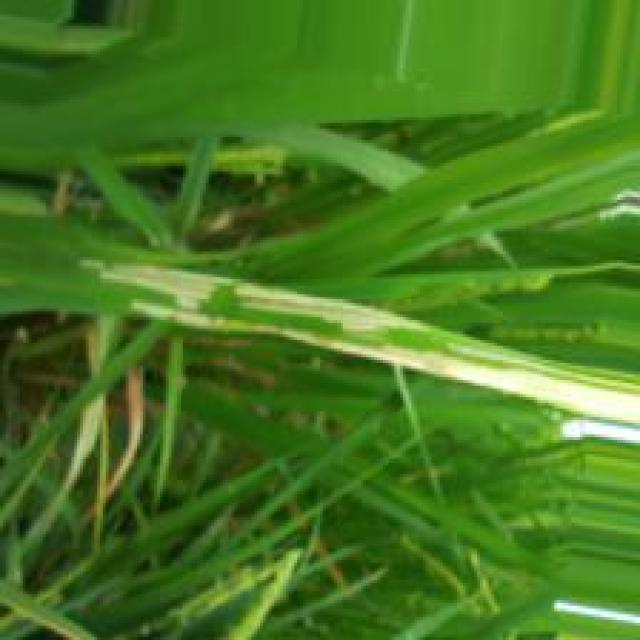Rice_Hispa: (128, 301, 640, 428), (89, 254, 427, 331)
